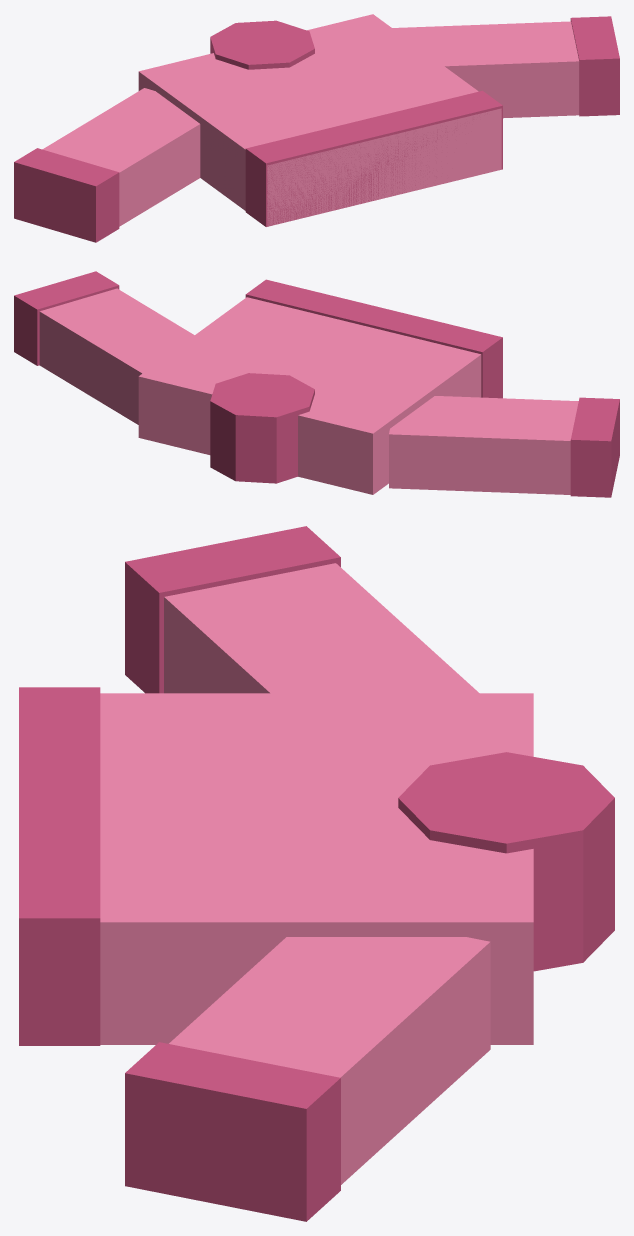
Rendered from sweater.glb.
The picture shows the model from 3 angles, top to bottom: view 1: azimuth 30°, elevation 25°; view 2: azimuth 150°, elevation 25°; view 3: azimuth 270°, elevation 25°; orthographic projection. The views are drawn at different scales.
Parts seen in each view (by area): view 1: sweater; view 2: sweater; view 3: sweater.
Part boxes in pixels (x1,y1,x2,y2): sweater: (14,14,619,242); sweater: (14,271,619,497); sweater: (19,526,614,1221).
Bounding box in the file's own units: 0.5092 × 0.054 × 0.22.
Materials: 1 (1 with a texture image).
